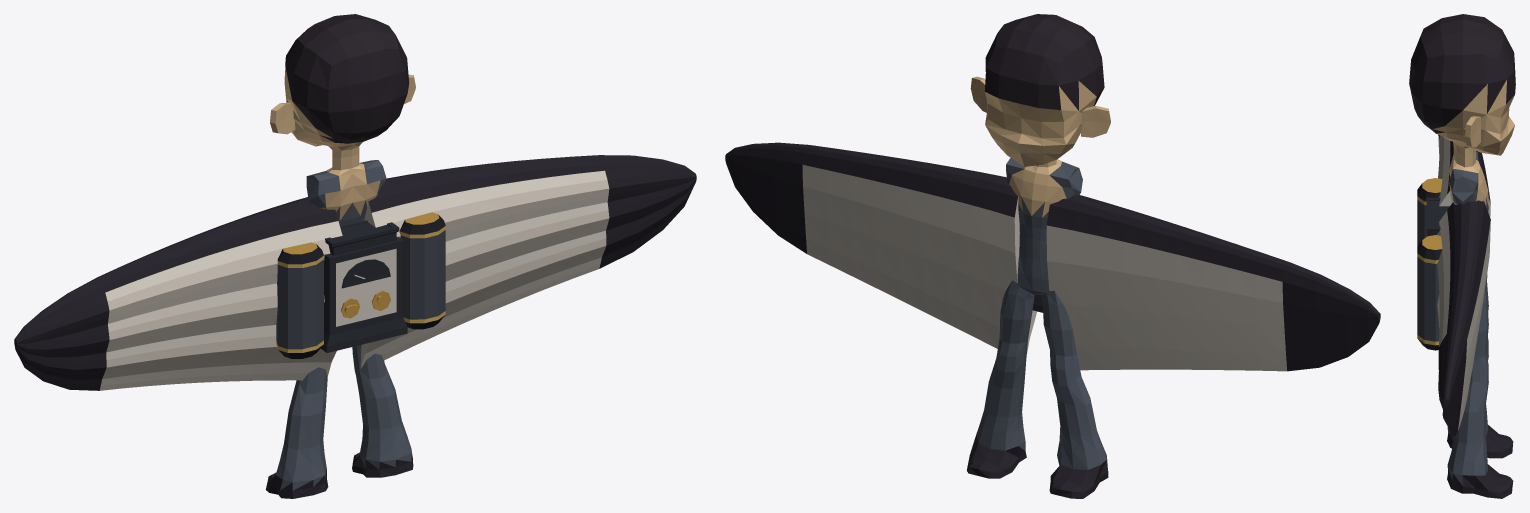
The model's file is pilot.glb.
The picture shows the model from 3 angles, left to right: view 1: azimuth 30°, elevation 25°; view 2: azimuth 150°, elevation 25°; view 3: azimuth 270°, elevation 25°; orthographic projection. The views are drawn at different scales.
Visible parts, largest first — view 1: pilot; view 2: pilot; view 3: pilot.
Part boxes in pixels (x1=…): pilot: x1=14, y1=14, x2=696, y2=498; pilot: x1=725, y1=14, x2=1380, y2=498; pilot: x1=1409, y1=14, x2=1515, y2=498.
Bounding box in the file's own units: 1.58 × 1.04 × 0.2241.
